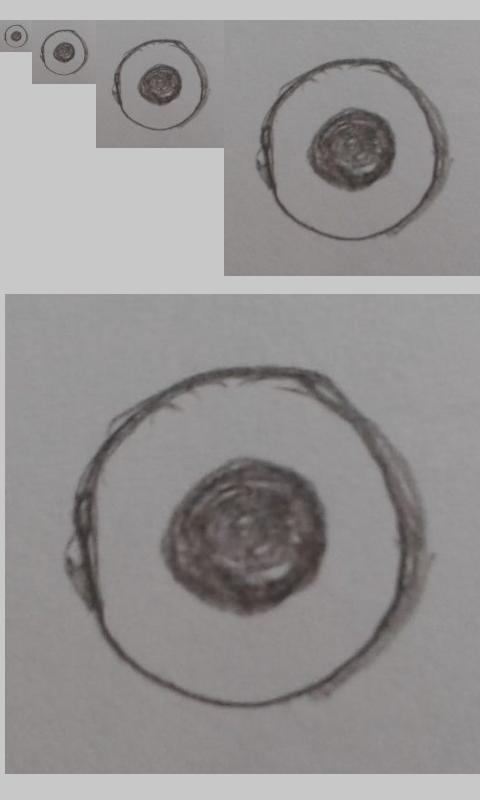radio_button: (68, 366, 429, 711), (256, 56, 450, 243), (112, 38, 208, 132), (40, 29, 89, 76), (4, 24, 28, 48)
